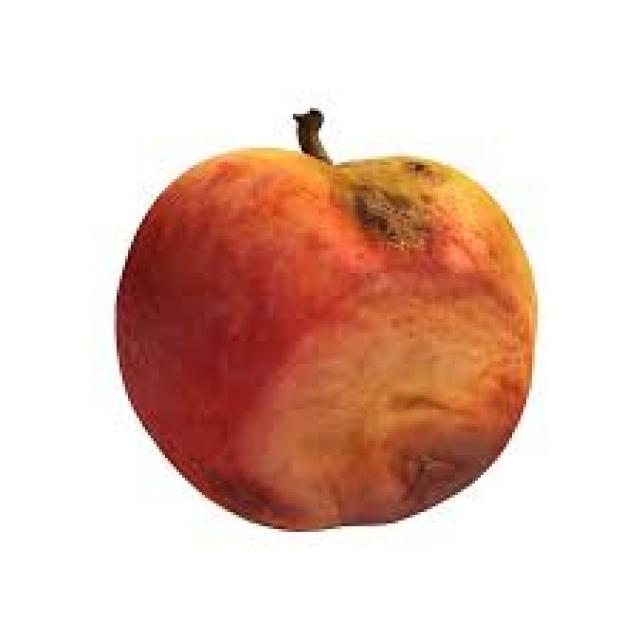organic waste: (111, 105, 535, 529)
